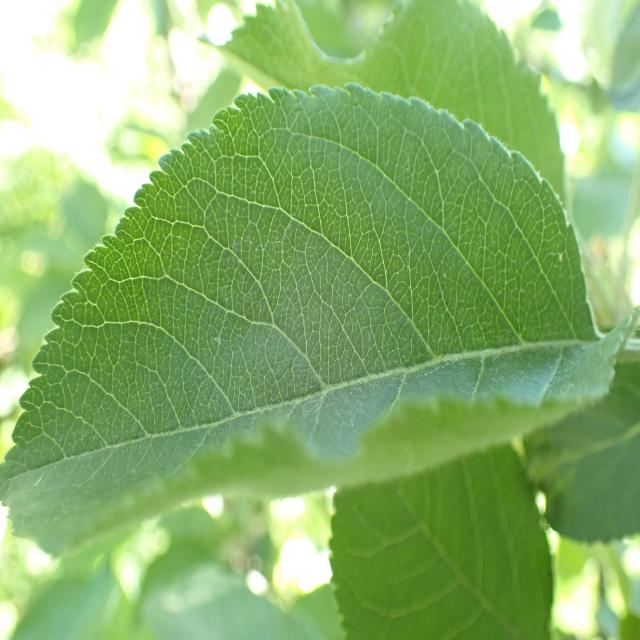healthy: (1, 83, 634, 560), (197, 1, 567, 224), (327, 438, 554, 640), (522, 358, 640, 545)
